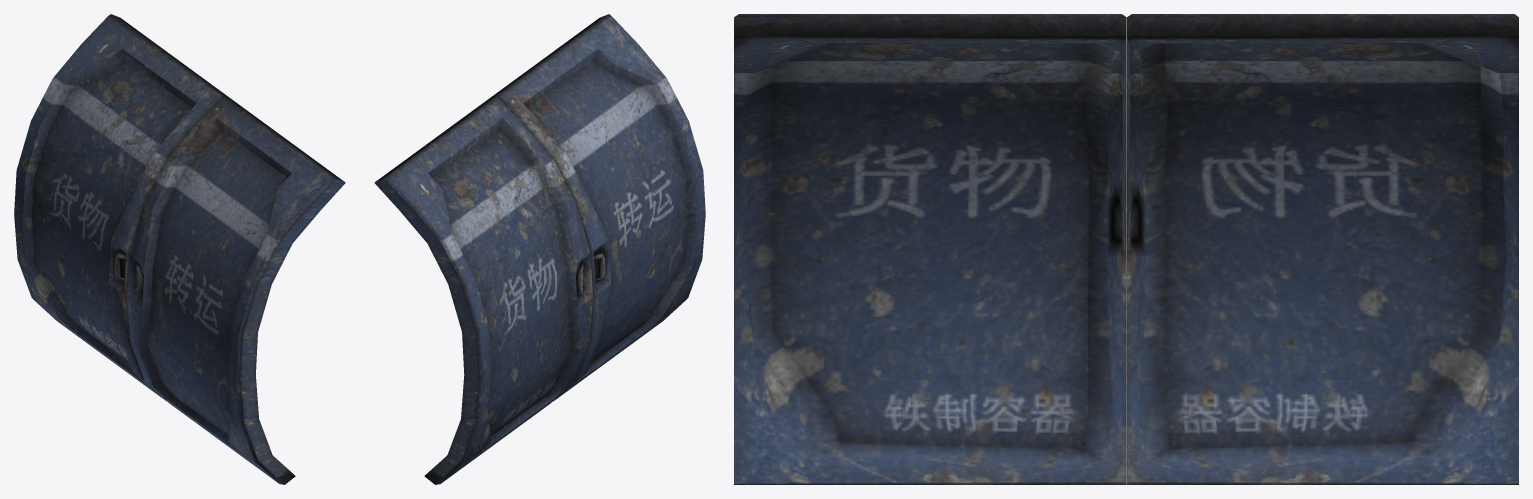
Rendered from 01_05_transporter_cargo_doors.dae.
The picture shows the model from 3 angles, left to right: view 1: azimuth 30°, elevation 25°; view 2: azimuth 150°, elevation 25°; view 3: azimuth 270°, elevation 25°; orthographic projection. The views are drawn at different scales.
Parts seen in each view (by area): view 1: door_right, door_left; view 2: door_left, door_right; view 3: door_right, door_left.
Part boxes in pixels (x1=…): door_right: x1=127, y1=96, x2=345, y2=484; door_left: x1=14, y1=14, x2=232, y2=401; door_left: x1=374, y1=96, x2=592, y2=484; door_right: x1=487, y1=14, x2=705, y2=401; door_right: x1=734, y1=14, x2=1126, y2=484; door_left: x1=1127, y1=14, x2=1518, y2=484.
Size of the model in its own units: 1.01 by 2.63 by 3.66.
